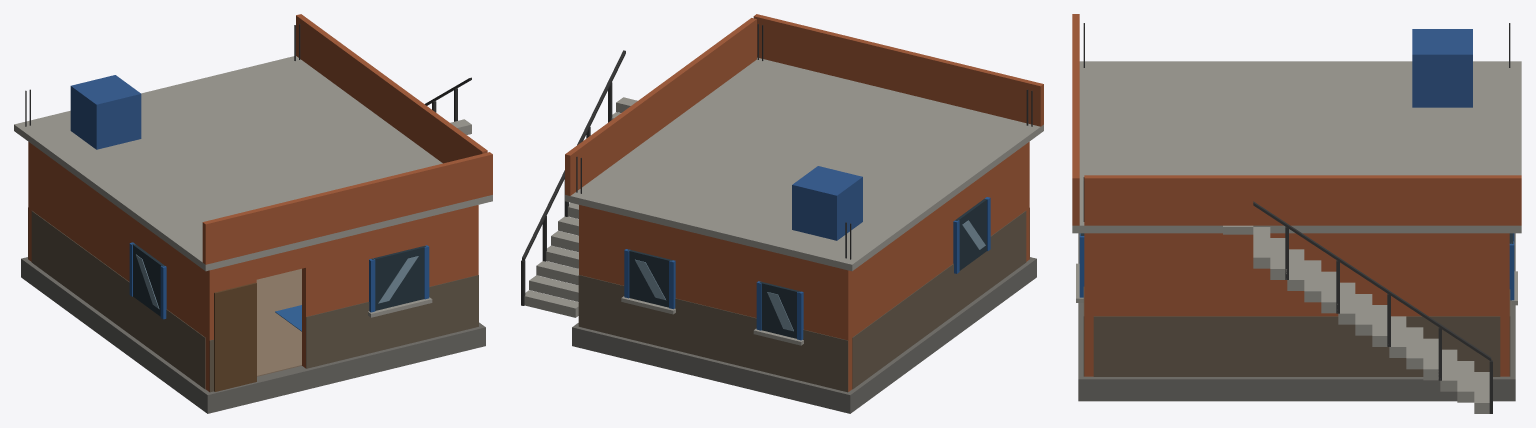
The model's file is casa_laje_a.glb.
3 renders of one model, left to right at view 1: azimuth 30°, elevation 25°; view 2: azimuth 150°, elevation 25°; view 3: azimuth 270°, elevation 25°, orthographic. The views are drawn at different scales.
Parts seen in each view (by area): view 1: casa_laje_a; view 2: casa_laje_a; view 3: casa_laje_a.
Part boxes in pixels (box(x1,y1,x2,y2)): casa_laje_a: box(14, 14, 492, 413); casa_laje_a: box(521, 14, 1043, 413); casa_laje_a: box(1072, 14, 1521, 413).
Size of the model in its own units: 7.65 by 4.24 by 7.4.
